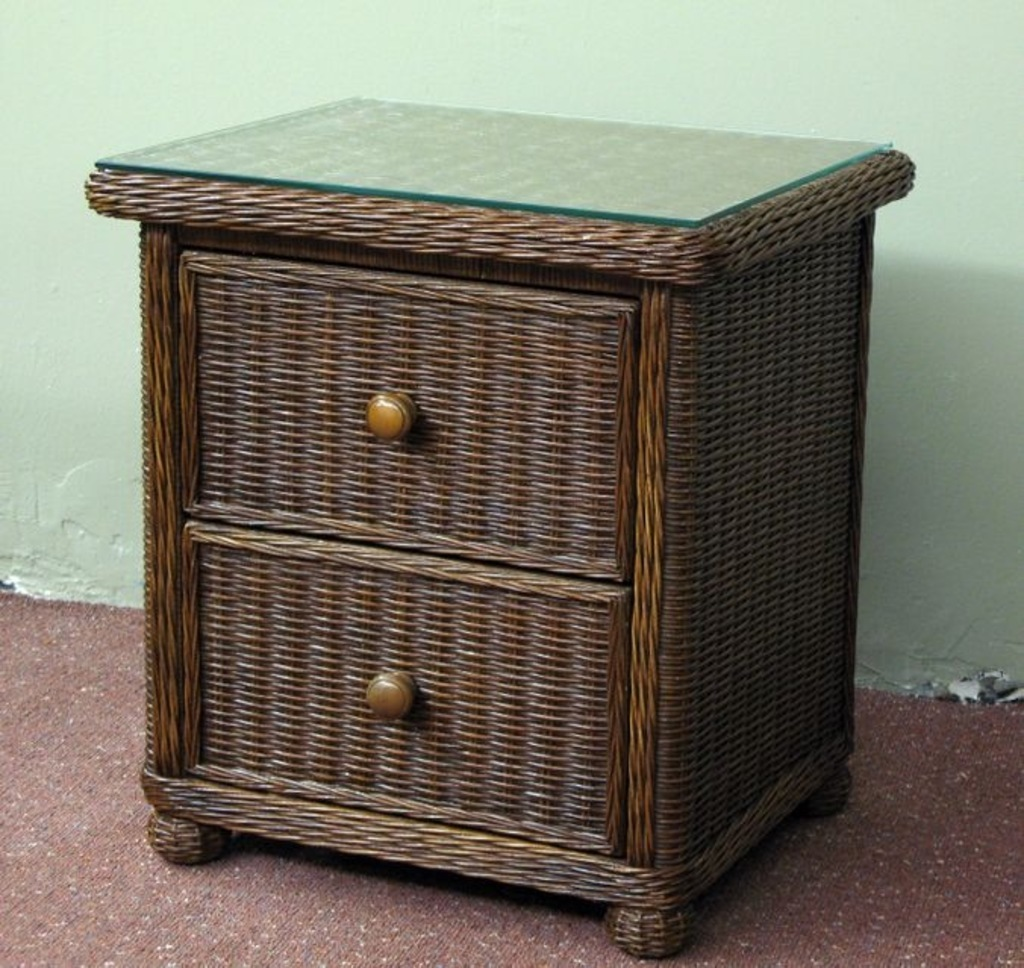cabinet door: (189, 523, 637, 864), (191, 265, 631, 569)
handle: (356, 657, 436, 742), (360, 389, 428, 452)
